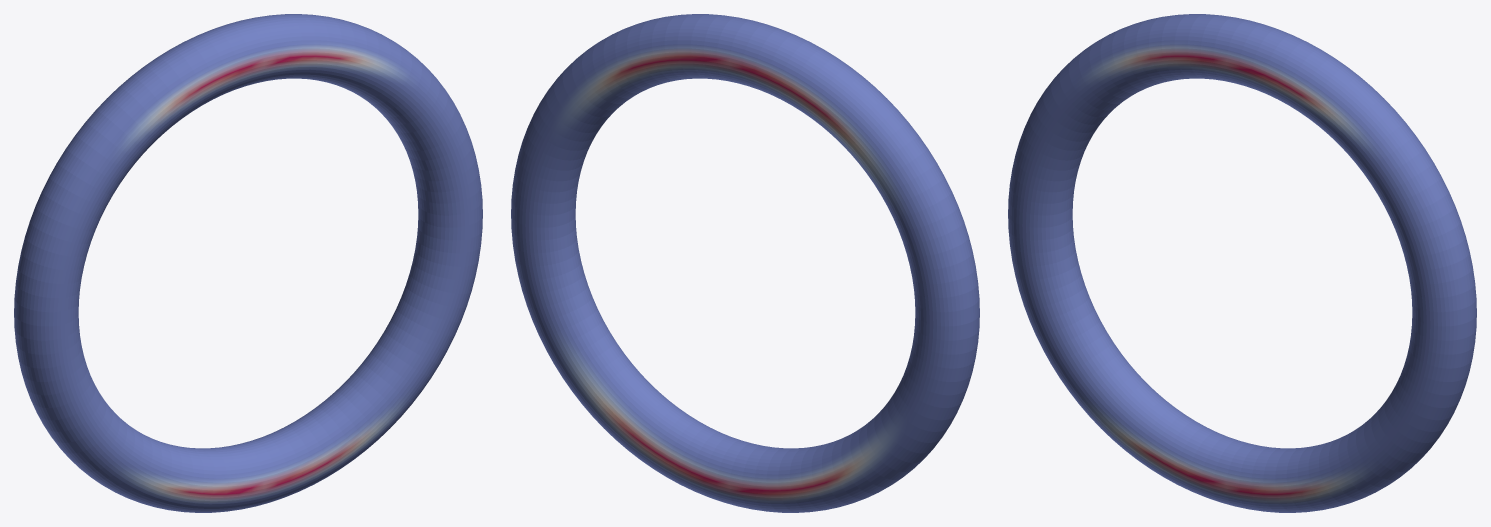
The picture shows the model from 3 angles, left to right: view 1: azimuth 30°, elevation 25°; view 2: azimuth 150°, elevation 25°; view 3: azimuth 330°, elevation 25°; orthographic projection.
Visible parts, largest first — view 1: world; view 2: world; view 3: world.
Part boxes in pixels (x1,y1,x2,y2): world: [14, 14, 482, 512]; world: [511, 14, 979, 512]; world: [1008, 14, 1476, 512].
Size of the model in its own units: 16.44 by 16.44 by 2.
